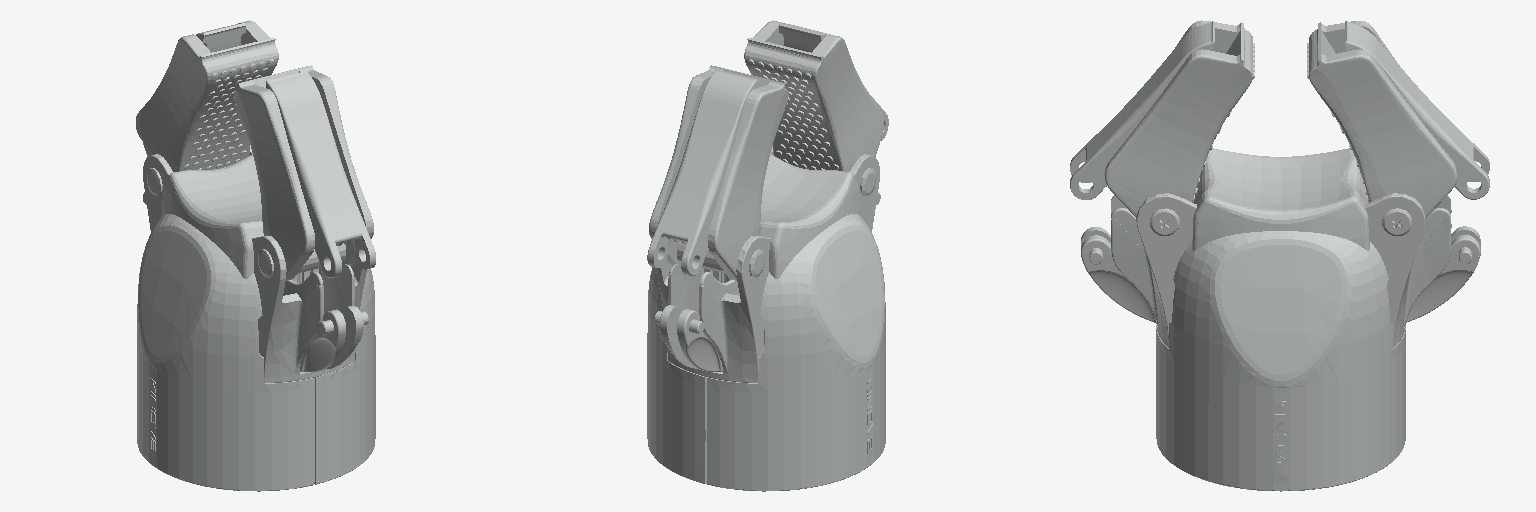
URDF robot description (gen3_lite_gen3_lite_2f):
<?xml version="1.0" ?>
<!-- =================================================================================== -->
<!-- |    This document was autogenerated by xacro from gen3_lite_gen3_lite_2f.xacro   | -->
<!-- |    EDITING THIS FILE BY HAND IS NOT RECOMMENDED                                 | -->
<!-- =================================================================================== -->
<robot name="gen3_lite_gen3_lite_2f">
  <!-- Run the macros -->
  <link name="base_link">
    <inertial>
      <origin rpy="0 0 0" xyz="0.00244324 0.00015573 0.08616742"/>
      <mass value="1.14608471"/>
      <inertia ixx="0.00335854" ixy="3.9E-07" ixz="0.00010989" iyy="0.003311" iyz="1.91E-06" izz="0.00077158"/>
    </inertial>
    <visual>
      <origin rpy="0 0 0" xyz="0 0 0"/>
      <geometry>
        <mesh filename="package://kortex_description/arms/gen3_lite/6dof/meshes/base_link.STL"/>
      </geometry>
      <material name="">
        <color rgba="0.803 0.824 0.820 1"/>
      </material>
    </visual>
    <collision>
      <origin rpy="0 0 0" xyz="0 0 0"/>
      <geometry>
        <mesh filename="package://kortex_description/arms/gen3_lite/6dof/meshes/base_link.STL"/>
      </geometry>
    </collision>
  </link>
  <gazebo reference="base_link">
    <material>Kortex/Gray</material>
  </gazebo>
  <link name="shoulder_link">
    <inertial>
      <origin rpy="0 0 0" xyz="2.477E-05 0.02213531 0.09937686"/>
      <mass value="0.95974404"/>
      <inertia ixx="0.00165947" ixy="2E-08" ixz="3.6E-07" iyy="0.00140355" iyz="0.00034927" izz="0.00089493"/>
    </inertial>
    <visual>
      <origin rpy="0 0 0" xyz="0 0 0"/>
      <geometry>
        <mesh filename="package://kortex_description/arms/gen3_lite/6dof/meshes/shoulder_link.STL"/>
      </geometry>
      <material name="">
        <color rgba="0.803 0.824 0.820 1"/>
      </material>
    </visual>
    <collision>
      <origin rpy="0 0 0" xyz="0 0 0"/>
      <geometry>
        <mesh filename="package://kortex_description/arms/gen3_lite/6dof/meshes/shoulder_link.STL"/>
      </geometry>
    </collision>
  </link>
  <gazebo reference="shoulder_link">
    <material>Kortex/Gray</material>
  </gazebo>
  <joint name="joint_1" type="revolute">
    <origin rpy="0 0 0" xyz="0 0 0.12825"/>
    <parent link="base_link"/>
    <child link="shoulder_link"/>
    <axis xyz="0 0 1"/>
    <limit effort="10" lower="-2.69" upper="2.69" velocity="1.6"/>
  </joint>
  <link name="arm_link">
    <inertial>
      <origin rpy="0 0 0" xyz="0.02998299 0.21154808 0.0453031"/>
      <mass value="1.17756164"/>
      <inertia ixx="0.01149277" ixy="1E-06" ixz="1.6E-07" iyy="0.00102851" iyz="0.00140765" izz="0.01133492"/>
    </inertial>
    <visual>
      <origin rpy="0 0 0" xyz="0 0 0"/>
      <geometry>
        <mesh filename="package://kortex_description/arms/gen3_lite/6dof/meshes/arm_link.STL"/>
      </geometry>
      <material name="">
        <color rgba="0.803 0.824 0.820 1"/>
      </material>
    </visual>
    <collision>
      <origin rpy="0 0 0" xyz="0 0 0"/>
      <geometry>
        <mesh filename="package://kortex_description/arms/gen3_lite/6dof/meshes/arm_link.STL"/>
      </geometry>
    </collision>
  </link>
  <gazebo reference="arm_link">
    <material>Kortex/Gray</material>
  </gazebo>
  <joint name="joint_2" type="revolute">
    <origin rpy="1.5708 0 0" xyz="0 -0.03 0.115"/>
    <parent link="shoulder_link"/>
    <child link="arm_link"/>
    <axis xyz="0 0 1"/>
    <limit effort="14" lower="-2.69" upper="2.69" velocity="1.6"/>
  </joint>
  <link name="forearm_link">
    <inertial>
      <origin rpy="0 0 0" xyz="0.0301559 0.09502206 0.0073555"/>
      <mass value="0.59767669"/>
      <inertia ixx="0.00163256" ixy="7.11E-06" ixz="1.54E-06" iyy="0.00029798" iyz="9.587E-05" izz="0.00169091"/>
    </inertial>
    <visual>
      <origin rpy="0 0 0" xyz="0 0 0"/>
      <geometry>
        <mesh filename="package://kortex_description/arms/gen3_lite/6dof/meshes/forearm_link.STL"/>
      </geometry>
      <material name="">
        <color rgba="0.803 0.824 0.820 1"/>
      </material>
    </visual>
    <collision>
      <origin rpy="0 0 0" xyz="0 0 0"/>
      <geometry>
        <mesh filename="package://kortex_description/arms/gen3_lite/6dof/meshes/forearm_link.STL"/>
      </geometry>
    </collision>
  </link>
  <gazebo reference="forearm_link">
    <material>Kortex/Gray</material>
  </gazebo>
  <joint name="joint_3" type="revolute">
    <origin rpy="-3.1416 0 0" xyz="0 0.28 0"/>
    <parent link="arm_link"/>
    <child link="forearm_link"/>
    <axis xyz="0 0 1"/>
    <limit effort="10" lower="-2.69" upper="2.69" velocity="1.6"/>
  </joint>
  <link name="lower_wrist_link">
    <inertial>
      <origin rpy="0 0 0" xyz="0.00575149 0.01000443 0.08719207"/>
      <mass value="0.52693412"/>
      <inertia ixx="0.00069098" ixy="2.4E-07" ixz="0.00016483" iyy="0.00078519" iyz="7.4E-07" izz="0.00034115"/>
    </inertial>
    <visual>
      <origin rpy="0 0 0" xyz="0 0 0"/>
      <geometry>
        <mesh filename="package://kortex_description/arms/gen3_lite/6dof/meshes/lower_wrist_link.STL"/>
      </geometry>
      <material name="">
        <color rgba="0.803 0.824 0.820 1"/>
      </material>
    </visual>
    <collision>
      <origin rpy="0 0 0" xyz="0 0 0"/>
      <geometry>
        <mesh filename="package://kortex_description/arms/gen3_lite/6dof/meshes/lower_wrist_link.STL"/>
      </geometry>
    </collision>
  </link>
  <gazebo reference="lower_wrist_link">
    <material>Kortex/Gray</material>
  </gazebo>
  <joint name="joint_4" type="revolute">
    <origin rpy="1.5708 0 0" xyz="0 -0.14 0.02"/>
    <parent link="forearm_link"/>
    <child link="lower_wrist_link"/>
    <axis xyz="0 0 1"/>
    <limit effort="7" lower="-2.59" upper="2.59" velocity="1.6"/>
  </joint>
  <link name="upper_wrist_link">
    <inertial>
      <origin rpy="0 0 0" xyz="0.08056517 0.00980409 0.01872799"/>
      <mass value="0.58097325"/>
      <inertia ixx="0.00021268" ixy="5.21E-06" ixz="2.91E-06" iyy="0.00106371" iyz="1.1E-07" izz="0.00108465"/>
    </inertial>
    <visual>
      <origin rpy="0 0 0" xyz="0 0 0"/>
      <geometry>
        <mesh filename="package://kortex_description/arms/gen3_lite/6dof/meshes/upper_wrist_link.STL"/>
      </geometry>
      <material name="">
        <color rgba="0.803 0.824 0.820 1"/>
      </material>
    </visual>
    <collision>
      <origin rpy="0 0 0" xyz="0 0 0"/>
      <geometry>
        <mesh filename="package://kortex_description/arms/gen3_lite/6dof/meshes/upper_wrist_link.STL"/>
      </geometry>
    </collision>
  </link>
  <gazebo reference="upper_wrist_link">
    <material>Kortex/Gray</material>
  </gazebo>
  <joint name="joint_5" type="revolute">
    <origin rpy="0 1.5708 0" xyz="0.0285 0 0.105"/>
    <parent link="lower_wrist_link"/>
    <child link="upper_wrist_link"/>
    <axis xyz="0 0 1"/>
    <limit effort="7" lower="-2.57" upper="2.57" velocity="1.6"/>
  </joint>
  <link name="end_effector_link"/>
  <joint name="joint_6" type="revolute">
    <origin rpy="0 -1.5708 0" xyz="-0.105 0 0.0285"/>
    <parent link="upper_wrist_link"/>
    <child link="end_effector_link"/>
    <axis xyz="0 0 1"/>
    <limit effort="7" lower="-2.59" upper="2.59" velocity="3.2"/>
  </joint>
  <link name="dummy_link"/>
  <joint name="end_effector" type="fixed">
    <origin rpy="0 0 0" xyz="0 0 0"/>
    <parent link="end_effector_link"/>
    <child link="dummy_link"/>
    <axis xyz="0 0 1"/>
    <limit effort="0" lower="0" upper="0" velocity="0"/>
  </joint>
  <!-- Tool frame used by the arm -->
  <link name="tool_frame"/>
  <joint name="tool_frame_joint" type="fixed">
    <origin rpy="0 0 1.57079632679" xyz="0 0 0.130"/>
    <parent link="dummy_link"/>
    <child link="tool_frame"/>
    <axis xyz="0 0 0"/>
  </joint>
  <!-- Gripper description -->
  <joint name="gripper_base_joint" type="fixed">
    <origin rpy="0 0 0" xyz="0 0 0"/>
    <parent link="dummy_link"/>
    <child link="gripper_base_link"/>
    <axis xyz="0 0 0"/>
  </joint>
  <link name="gripper_base_link">
    <inertial>
      <origin rpy="0 0 0" xyz="4.03E-06 1.08E-05 0.041397"/>
      <mass value="0.1395"/>
      <inertia ixx="0.00011614" ixy="1E-08" ixz="4E-08" iyy="0.00010327" iyz="0" izz="9.707E-05"/>
    </inertial>
    <visual>
      <origin rpy="0 0 0" xyz="0 0 0"/>
      <geometry>
        <mesh filename="package://kortex_description/grippers/gen3_lite_2f/meshes/gripper_base_link.STL"/>
      </geometry>
      <material name="">
        <color rgba="0.803 0.824 0.820 1"/>
      </material>
    </visual>
    <collision>
      <origin rpy="0 0 0" xyz="0 0 0"/>
      <geometry>
        <mesh filename="package://kortex_description/grippers/gen3_lite_2f/meshes/gripper_base_link.STL"/>
      </geometry>
    </collision>
  </link>
  <gazebo reference="gripper_base_link">
    <material>Kortex/Gray</material>
  </gazebo>
  <link name="right_finger_prox_link">
    <inertial>
      <origin rpy="0 0 0" xyz="0.020257 0.0063483 6.991E-05"/>
      <mass value="0.018385"/>
      <inertia ixx="2.29E-06" ixy="1.43E-06" ixz="0" iyy="4.56E-06" iyz="0" izz="4.77E-06"/>
    </inertial>
    <visual>
      <origin rpy="0 0 0" xyz="0 0 0"/>
      <geometry>
        <mesh filename="package://kortex_description/grippers/gen3_lite_2f/meshes/right_finger_prox_link.STL"/>
      </geometry>
      <material name="">
        <color rgba="0.803 0.824 0.820 1"/>
      </material>
    </visual>
    <collision>
      <origin rpy="0 0 0" xyz="0 0 0"/>
      <geometry>
        <mesh filename="package://kortex_description/grippers/gen3_lite_2f/meshes/right_finger_prox_link.STL"/>
      </geometry>
    </collision>
  </link>
  <gazebo reference="right_finger_prox_link">
    <material>Kortex/Gray</material>
  </gazebo>
  <joint name="right_finger_bottom_joint" type="revolute">
    <origin rpy="0 1.5708 0" xyz="0 -0.030501 0.070003"/>
    <parent link="gripper_base_link"/>
    <child link="right_finger_prox_link"/>
    <axis xyz="0 0 1"/>
    <limit effort="1000" lower="-0.09" upper="0.96" velocity="0.6"/>
  </joint>
  <link name="right_finger_dist_link">
    <inertial>
      <origin rpy="0 0 0" xyz="0.018488 0.0011091 0"/>
      <mass value="0.010748"/>
      <inertia ixx="6.3E-07" ixy="3.2E-07" ixz="0" iyy="1.83E-06" iyz="0" izz="1.61E-06"/>
    </inertial>
    <visual>
      <origin rpy="0 0 0" xyz="0 0 0"/>
      <geometry>
        <mesh filename="package://kortex_description/grippers/gen3_lite_2f/meshes/right_finger_dist_link.STL"/>
      </geometry>
      <material name="">
        <color rgba="0 0.055 0.525 1"/>
      </material>
    </visual>
    <collision>
      <origin rpy="0 0 0" xyz="0 0 0"/>
      <geometry>
        <mesh filename="package://kortex_description/grippers/gen3_lite_2f/meshes/right_finger_dist_link.STL"/>
      </geometry>
    </collision>
  </link>
  <gazebo reference="right_finger_dist_link">
    <material>Kortex/Blue</material>
  </gazebo>
  <joint name="right_finger_tip_joint" type="revolute">
    <origin rpy="0 0 0" xyz="-0.045636 0.020423 0"/>
    <parent link="right_finger_prox_link"/>
    <child link="right_finger_dist_link"/>
    <axis xyz="0 0 1"/>
    <limit effort="1000" lower="-0.50" upper="0.21" velocity="1000"/>
    <!--limit lower="-1.03" upper="0.21" effort="1000" velocity="1000" /-->
    <mimic joint="right_finger_bottom_joint" multiplier="-0.676" offset="0.149"/>
  </joint>
  <link name="left_finger_prox_link">
    <inertial>
      <origin rpy="0 0 0" xyz="0.020257 0.0063483 6.99E-05"/>
      <mass value="0.018385"/>
      <inertia ixx="2.29E-06" ixy="1.43E-06" ixz="0" iyy="4.56E-06" iyz="0" izz="4.77E-06"/>
    </inertial>
    <visual>
      <origin rpy="0 0 0" xyz="0 0 0"/>
      <geometry>
        <mesh filename="package://kortex_description/grippers/gen3_lite_2f/meshes/left_finger_prox_link.STL"/>
      </geometry>
      <material name="">
        <color rgba="0.803 0.824 0.820 1"/>
      </material>
    </visual>
    <collision>
      <origin rpy="0 0 0" xyz="0 0 0"/>
      <geometry>
        <mesh filename="package://kortex_description/grippers/gen3_lite_2f/meshes/left_finger_prox_link.STL"/>
      </geometry>
    </collision>
  </link>
  <gazebo reference="left_finger_prox_link">
    <material>Kortex/Gray</material>
  </gazebo>
  <joint name="left_finger_bottom_joint" type="revolute">
    <origin rpy="0 1.5708 0" xyz="0 0.0305 0.070003"/>
    <parent link="gripper_base_link"/>
    <child link="left_finger_prox_link"/>
    <axis xyz="0 0 1"/>
    <limit effort="1000" lower="-0.96" upper="0.09" velocity="1000"/>
    <mimic joint="right_finger_bottom_joint" multiplier="-1.0" offset="0.0"/>
  </joint>
  <link name="left_finger_dist_link">
    <inertial>
      <origin rpy="0 0 0" xyz="-0.018488 0.0011091 0"/>
      <mass value="0.010748"/>
      <inertia ixx="6.3E-07" ixy="3.2E-07" ixz="0" iyy="1.83E-06" iyz="0" izz="1.61E-06"/>
    </inertial>
    <visual>
      <origin rpy="0 0 0" xyz="0 0 0"/>
      <geometry>
        <mesh filename="package://kortex_description/grippers/gen3_lite_2f/meshes/left_finger_dist_link.STL"/>
      </geometry>
      <material name="">
        <color rgba="0 0.055 0.525 1"/>
      </material>
    </visual>
    <collision>
      <origin rpy="0 0 0" xyz="0 0 0"/>
      <geometry>
        <mesh filename="package://kortex_description/grippers/gen3_lite_2f/meshes/left_finger_dist_link.STL"/>
      </geometry>
    </collision>
  </link>
  <gazebo reference="left_finger_dist_link">
    <material>Kortex/Blue</material>
  </gazebo>
  <joint name="left_finger_tip_joint" type="revolute">
    <origin rpy="0 0 0" xyz="-0.045636 -0.020423 6.9901E-05"/>
    <parent link="left_finger_prox_link"/>
    <child link="left_finger_dist_link"/>
    <axis xyz="0 0 -1"/>
    <limit effort="1000" lower="-0.50" upper="0.21" velocity="1000"/>
    <!--limit lower="-1.03" upper="0.21" effort="1000" velocity="1000" /-->
    <mimic joint="right_finger_bottom_joint" multiplier="-0.676" offset="0.149"/>
  </joint>
</robot>

--- Render facts (derived) ---
Views: 3 orthographic renders of the robot side by side, from view 1: azimuth 30°, elevation 25°; view 2: azimuth 150°, elevation 25°; view 3: azimuth 270°, elevation 25°.
Model gen3_lite_gen3_lite_2f with 14 links and 13 joints (10 revolute, 3 fixed), rooted at base_link, posed every joint at zero.
Links seen in each view (by area): view 1: gripper_base_link, right_finger_prox_link, left_finger_prox_link; view 2: gripper_base_link, left_finger_prox_link, right_finger_prox_link; view 3: gripper_base_link, right_finger_prox_link, left_finger_prox_link.
Link boxes in pixels (<box>): gripper_base_link: <box>137,145,375,491</box>; right_finger_prox_link: <box>234,65,375,280</box>; left_finger_prox_link: <box>136,20,278,171</box>; gripper_base_link: <box>647,146,885,491</box>; left_finger_prox_link: <box>647,65,788,280</box>; right_finger_prox_link: <box>744,20,888,171</box>; gripper_base_link: <box>1081,148,1480,491</box>; right_finger_prox_link: <box>1070,20,1254,216</box>; left_finger_prox_link: <box>1307,21,1489,217</box>.
Bounding box of the posed robot: 0.066 × 0.1102 × 0.1184 m (x, y, z).
Meshes: 11 distinct files referenced, 3 mesh visuals loaded (3 binary STL); not drawn: 8 (reference not matched to a file when rendering).